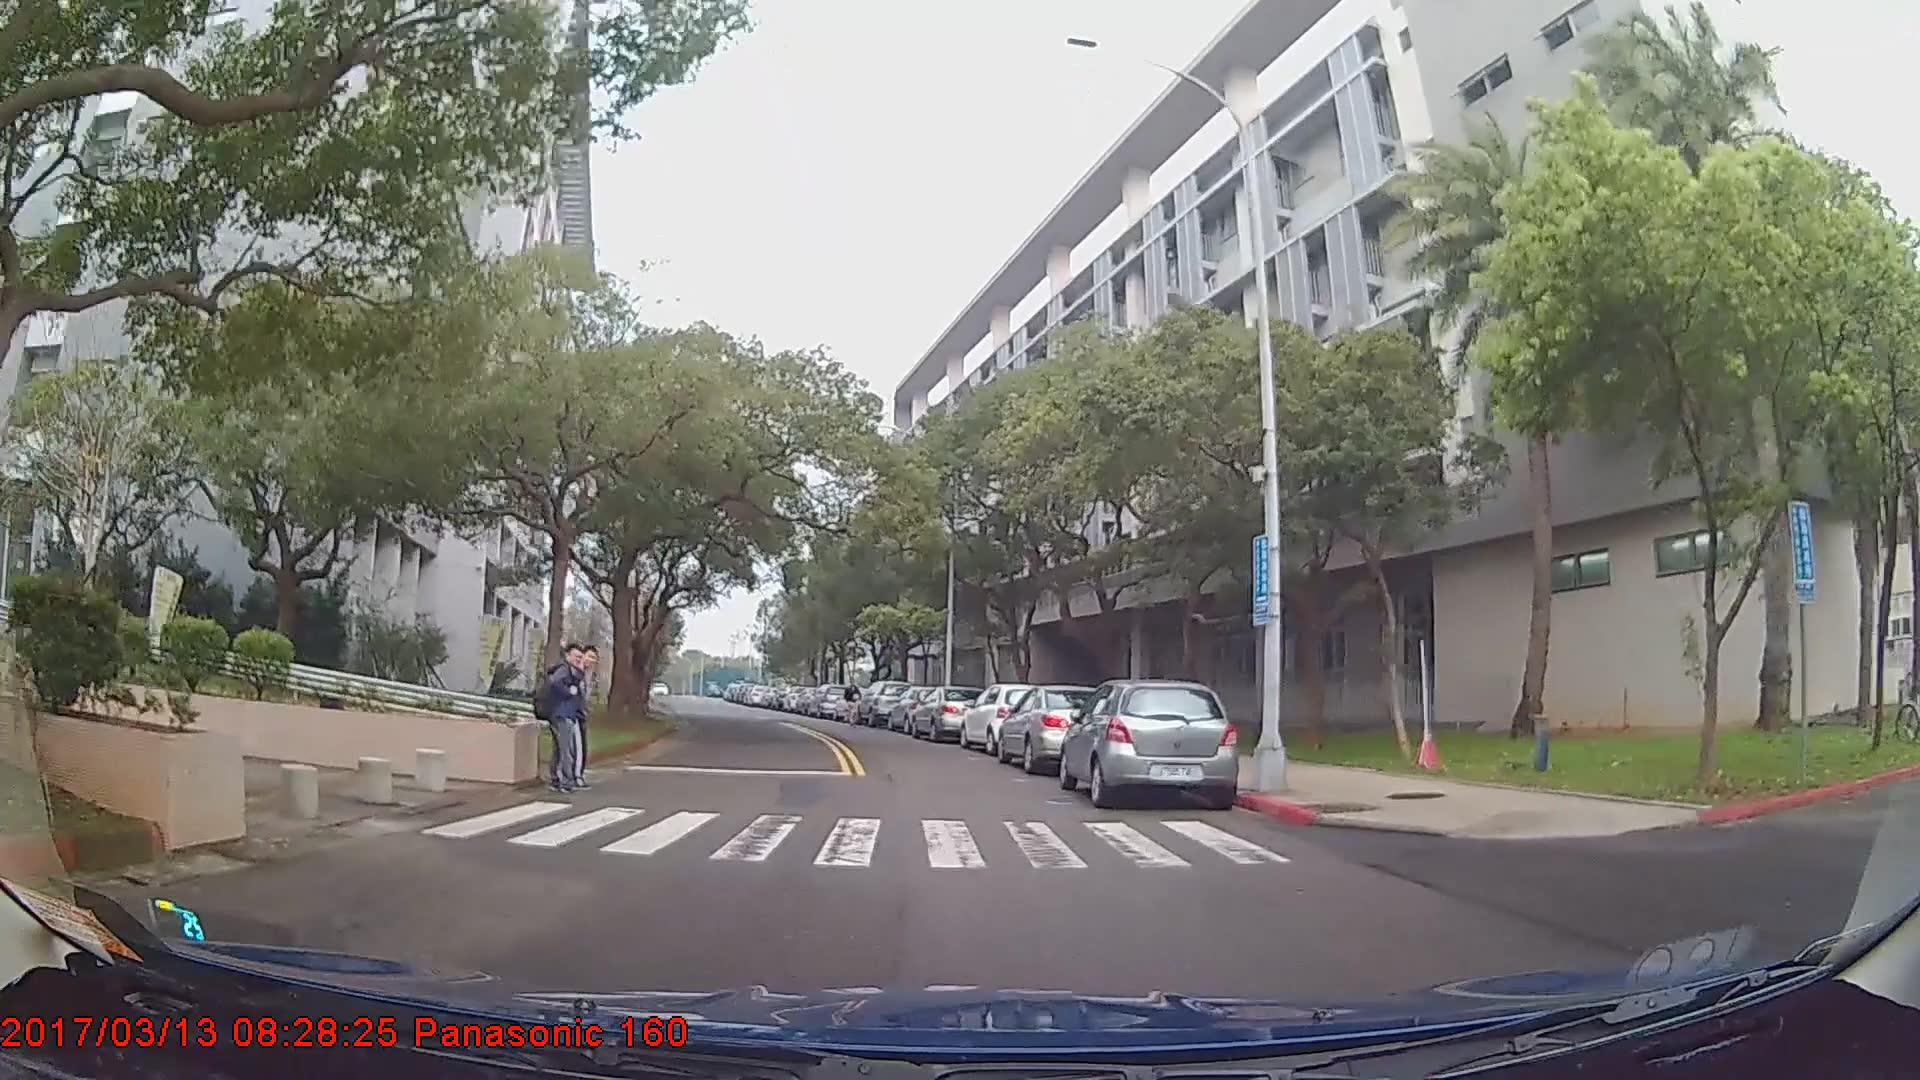pedestrian: (533, 641, 593, 799), (844, 679, 865, 729)
vehicle: (1059, 678, 1240, 810), (994, 683, 1112, 774), (959, 683, 1054, 757), (907, 682, 990, 742), (854, 678, 912, 724), (810, 681, 847, 718)
